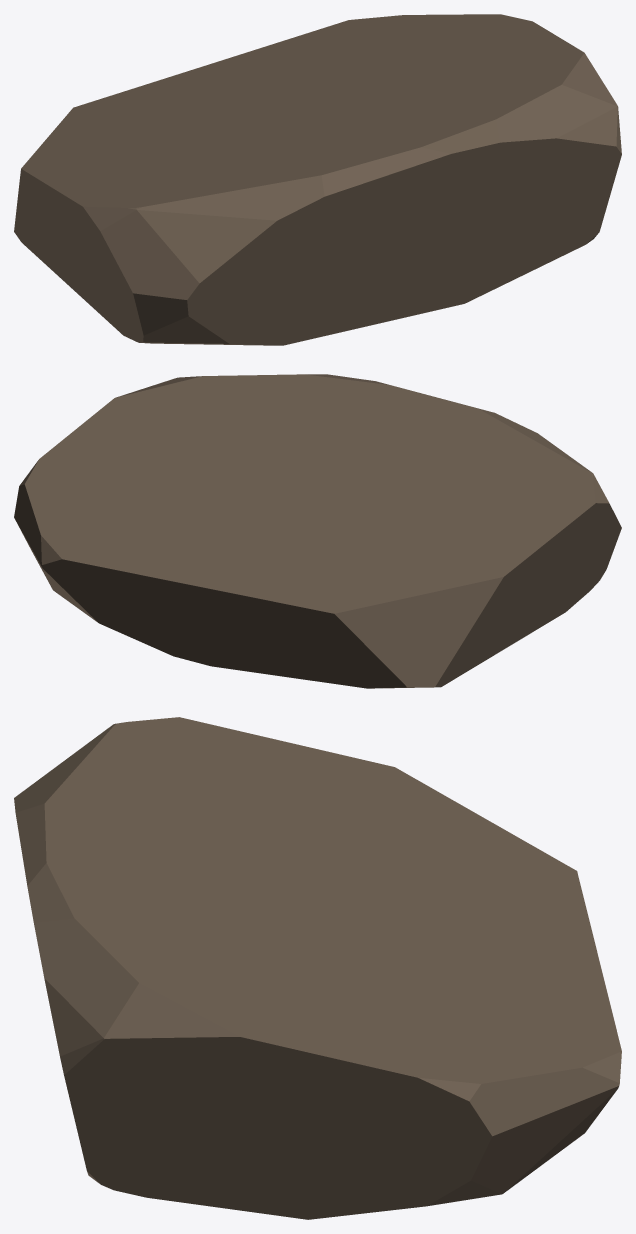
File: Rock_03.fbx
The picture shows the model from 3 angles, top to bottom: view 1: azimuth 30°, elevation 25°; view 2: azimuth 150°, elevation 25°; view 3: azimuth 270°, elevation 25°; orthographic projection. The views are drawn at different scales.
Visible parts, largest first — view 1: Icosphere.002; view 2: Icosphere.002; view 3: Icosphere.002.
Part boxes in pixels (<box>): Icosphere.002: <box>14,14,621,345</box>; Icosphere.002: <box>14,374,621,688</box>; Icosphere.002: <box>14,717,621,1219</box>.
Bounding box in the file's own units: 209 × 69.08 × 156.
